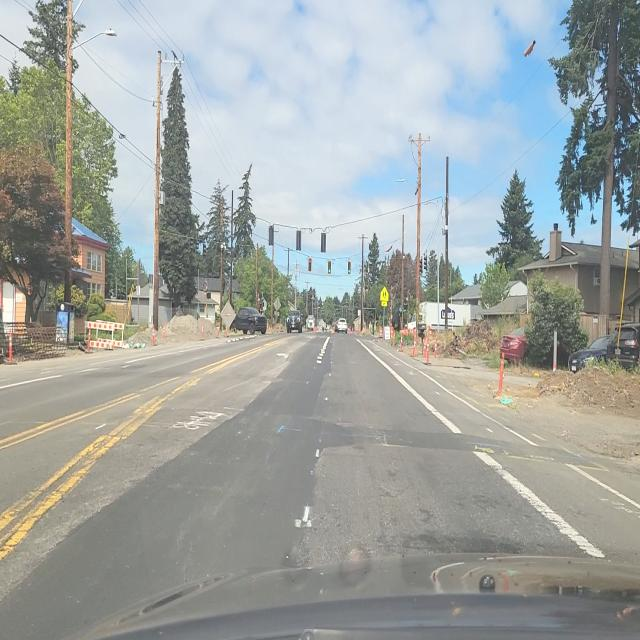car: (566, 324, 639, 373), (498, 327, 529, 365), (230, 308, 266, 336), (286, 309, 303, 333), (336, 318, 348, 334), (306, 316, 315, 331)
crosswalk-sign: (380, 287, 389, 307)
delineator: (497, 352, 505, 397), (424, 334, 431, 364), (8, 330, 14, 362), (411, 331, 417, 358), (88, 327, 94, 352), (398, 330, 404, 352), (433, 339, 438, 360), (391, 326, 396, 346), (151, 326, 156, 346), (162, 324, 165, 342), (201, 324, 204, 340), (224, 325, 228, 337), (217, 324, 220, 338), (315, 324, 319, 333)
